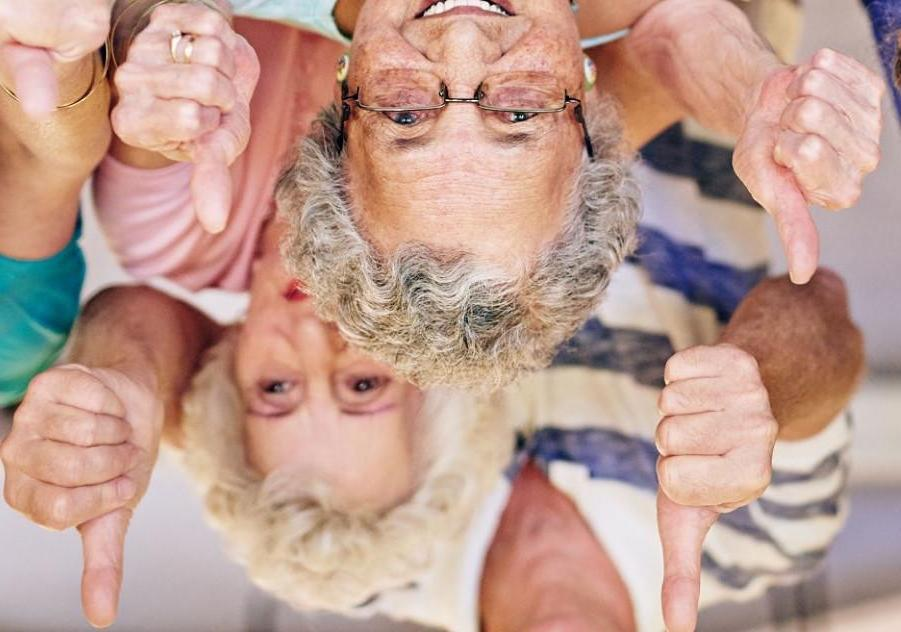thumbsdown: (0, 367, 143, 629), (653, 341, 781, 631), (113, 0, 244, 234), (757, 47, 885, 286)
